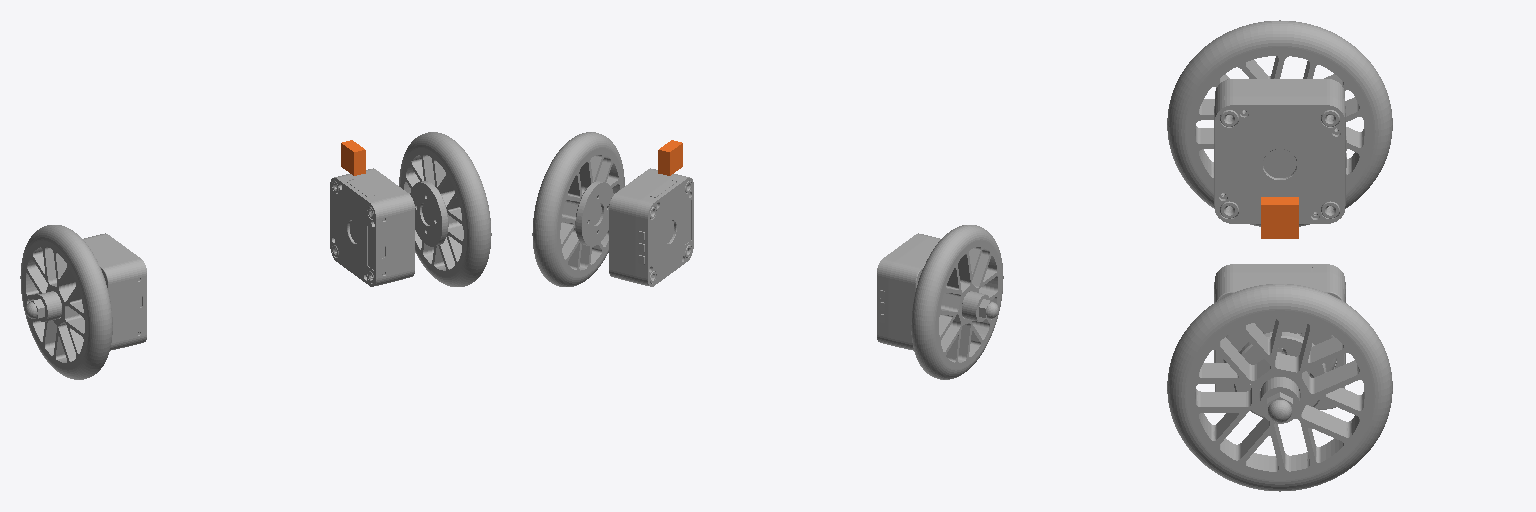
The robot description file, URDF, robot "km_dolly":
<robot name="km_dolly">
  <material name="orange">
    <color rgba="1.0 0.5 0.2 1" />
  </material>
  <material name="gray">
    <color rgba="0.7 0.7 0.7 1" />
  </material>
  <material name="red">
    <color rgba="0.4 0 0 1" />
  </material>
  <link name="imu_link">
    <visual>
      <origin xyz="0 0 0" rpy="0 0 0"/>
      <geometry>
        <box size="0.01 0.02 0.02" />
      </geometry>
      <material name="orange" />
    </visual>
  </link>

  <!--<link name="horizontal_laser_link">
    <visual>
      <origin xyz="0 0 0" rpy="0 0 0"/>
      <geometry>
        <cylinder length="0.02" radius="0.03" />
      </geometry>
      <material name="red" />
    </visual>
  </link>
  -->

  <link name="base_link">
    <visual>
      <geometry>
        <mesh filename="package://km_dolly/stl/Keigan_Dolly_frame_resized.stl" />
      </geometry>
      <origin xyz="0 0 0" rpy="0 0 0"/>
      <material name="gray" />
    </visual>
  </link>

  <joint name="imu_link_joint" type="fixed">
    <parent link="base_link" />
    <child link="imu_link" />
    <origin xyz="0.10 0 0.062" />
  </joint>

  <!--
  <joint name="horizontal_laser_link_joint" type="fixed">
    <parent link="base_link" />
    <child link="horizontal_laser_link" />
    <origin xyz="0 0 0.40" rpy="0 0 0"/>
  </joint>
  -->
  <link name="right_wheel">
    <visual>
      <geometry>
        <mesh filename="package://km_dolly/stl/Keigan_Dolly_Wheel_R_resized.stl" />
      </geometry>
      <origin xyz="0 0 0" rpy="0 0 3.1416"/>
      <material name="gray" />
    </visual>
  </link>

  <joint name="right_wheel_joint" type="continuous">
    <parent link="right_km1" />
    <child link="right_wheel" />
    <origin xyz="0.03 0 0" rpy="0 0 0"/>
    <axis xyz="-1 0 0"/>
  </joint>
  <joint name="right_km1_joint" type="fixed">
    <parent link="base_link" />
    <child link="right_km1" />
    <origin xyz="0 0 0" rpy="0 0 0"/>
  </joint>

  <link name="right_km1">
    <visual>
      <origin xyz="0 0 0" rpy="0 0 0"/>
      <geometry>
        <mesh filename="package://km_dolly/stl/Keigan_Dolly_KM-1U_R_resized.stl" />
      </geometry>
      <material name="gray" />
    </visual>
  </link>

  <link name="left_wheel">
    <visual>
      <geometry>
        <mesh filename="package://km_dolly/stl/Keigan_Dolly_Wheel_L_resized.stl" />
      </geometry>
        <origin xyz="0 0 0" rpy="0 0 3.1416"/>
      <material name="gray" />
    </visual>
  </link>

  <joint name="left_wheel_joint" type="continuous">
    <parent link="left_km1" />
    <child link="left_wheel" />
    <origin xyz="0 0 0" rpy="0 0 0"/>
    <axis xyz="-1 0 0"/>
  </joint>

  <joint name="left_km1_joint" type="fixed">
    <parent link="base_link" />
    <child link="left_km1" />
    <origin xyz="0 0 0" rpy="0 0 0" />
  </joint>

  <link name="left_km1">
    <visual>
      <origin xyz="0 0 0" rpy="0 0 0"/>
      <geometry>
        <mesh filename="package://km_dolly/stl/Keigan_Dolly_KM-1U_L_resized.stl" />
      </geometry>
      <material name="gray" />
    </visual>
  </link>


</robot>

--- What the picture shows (computed from the rendered views, not written in the file) ---
The picture shows the robot from 3 angles, left to right: view 1: azimuth 30°, elevation 25°; view 2: azimuth 150°, elevation 25°; view 3: azimuth 270°, elevation 25°; orthographic projection.
Robot: km_dolly — 6 links, 5 joints (2 continuous, 3 fixed); root link base_link; default pose: all joints at 0.
Links seen in each view (by area): view 1: left_wheel, right_wheel, left_km1, right_km1, imu_link; view 2: left_wheel, right_wheel, left_km1, right_km1, imu_link; view 3: right_wheel, right_km1, left_wheel, left_km1, imu_link.
Boxes of the visible links, box(x1,y1,x2,y2) form: left_wheel: box(20, 225, 112, 379); right_wheel: box(399, 132, 491, 286); left_km1: box(330, 168, 414, 286); right_km1: box(83, 233, 146, 350); imu_link: box(341, 140, 365, 175); left_wheel: box(911, 225, 1003, 379); right_wheel: box(532, 132, 624, 286); left_km1: box(609, 168, 693, 286); right_km1: box(877, 233, 940, 350); imu_link: box(658, 140, 682, 175); right_wheel: box(1167, 284, 1392, 491); right_km1: box(1214, 79, 1346, 223); left_wheel: box(1167, 20, 1392, 226); left_km1: box(1214, 264, 1346, 409); imu_link: box(1261, 197, 1298, 238).
Bounding box of the posed robot: 0.4016 × 0.12 × 0.132 m (x, y, z).
4 mesh visuals loaded from 5 distinct referenced files (4 binary STL); not drawn: 1 (reference not matched to a file when rendering).
